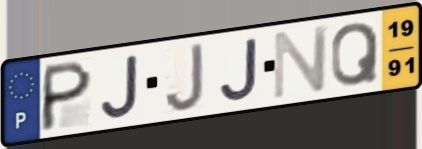J: (163, 40, 206, 114), (217, 35, 260, 103), (99, 52, 141, 120)
N: (271, 22, 331, 102)
P: (37, 58, 95, 134)
Q: (329, 20, 381, 89)
